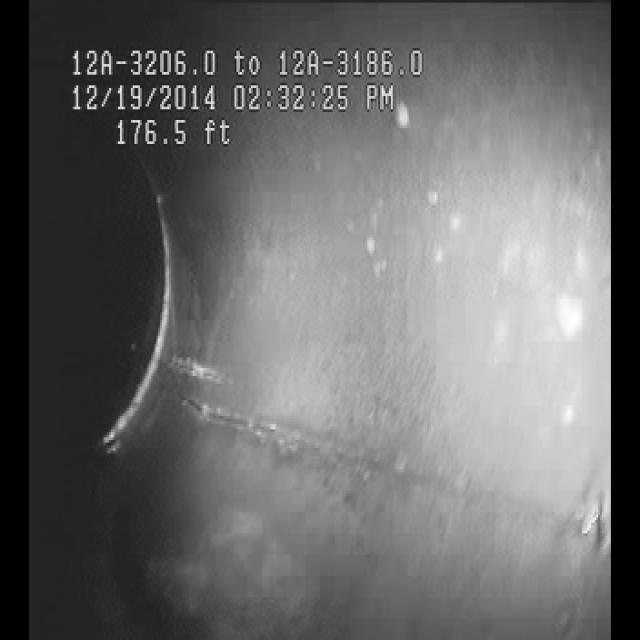Crack: (176, 328, 592, 586)
